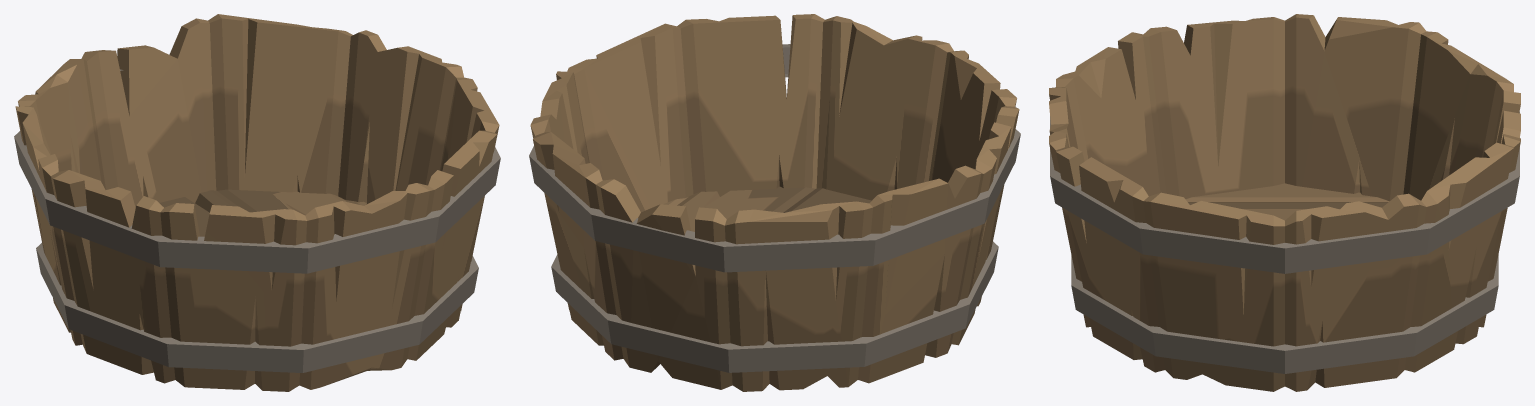
File: SM_Prop_Wooden_Bath_01.fbx
The picture shows the model from 3 angles, left to right: view 1: azimuth 30°, elevation 25°; view 2: azimuth 150°, elevation 25°; view 3: azimuth 270°, elevation 25°; orthographic projection.
Visible parts, largest first — view 1: SM_Prop_Wooden_Bath_01; view 2: SM_Prop_Wooden_Bath_01; view 3: SM_Prop_Wooden_Bath_01.
Part boxes in pixels (box(x1,y1,x2,y2)): SM_Prop_Wooden_Bath_01: box(14, 14, 500, 391); SM_Prop_Wooden_Bath_01: box(529, 14, 1020, 391); SM_Prop_Wooden_Bath_01: box(1049, 14, 1520, 391).
Bounding box in the file's own units: 135 × 59.33 × 129.
Materials: 1 (1 with a texture image).
